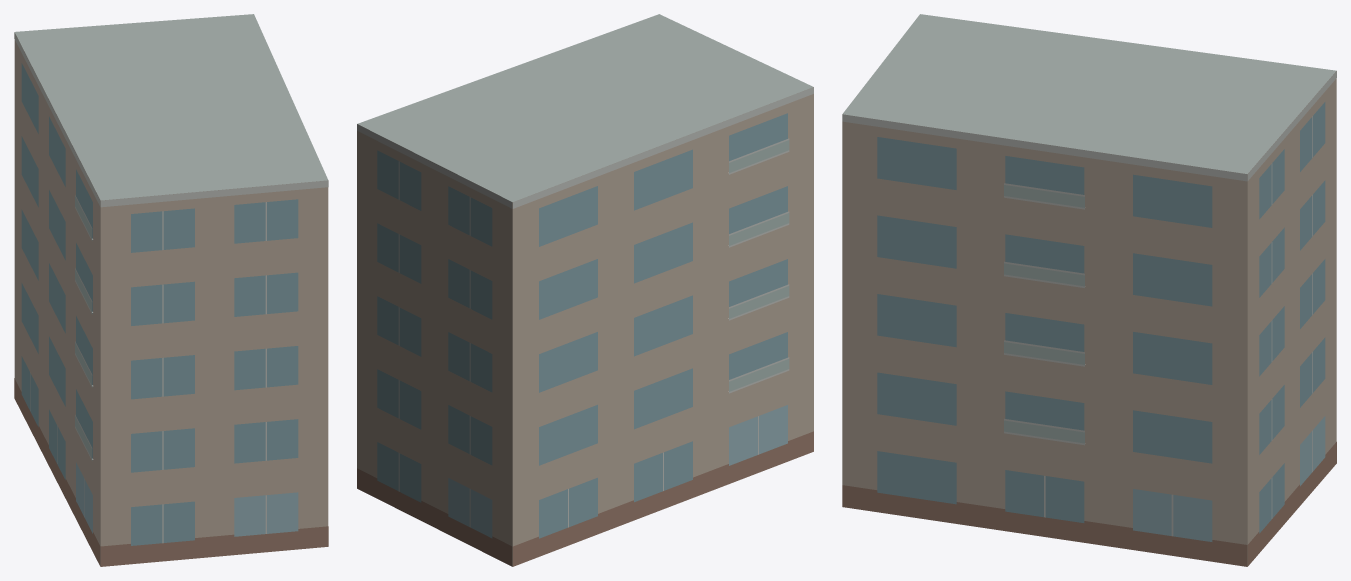
Rendered from survey-upis-32932399.glb.
3 renders of one model, left to right at view 1: azimuth 30°, elevation 25°; view 2: azimuth 150°, elevation 25°; view 3: azimuth 270°, elevation 25°, orthographic. The views are drawn at different scales.
Parts seen in each view (by area): view 1: survey-upis-32932399.tmp; view 2: survey-upis-32932399.tmp; view 3: survey-upis-32932399.tmp.
Boxes of the visible parts, left/top/right/bottom form: survey-upis-32932399.tmp: left=14, top=14, right=328, bottom=566; survey-upis-32932399.tmp: left=357, top=14, right=813, bottom=566; survey-upis-32932399.tmp: left=842, top=14, right=1336, bottom=566.
Bounding box in the file's own units: 11.47 × 13.1 × 14.96.
